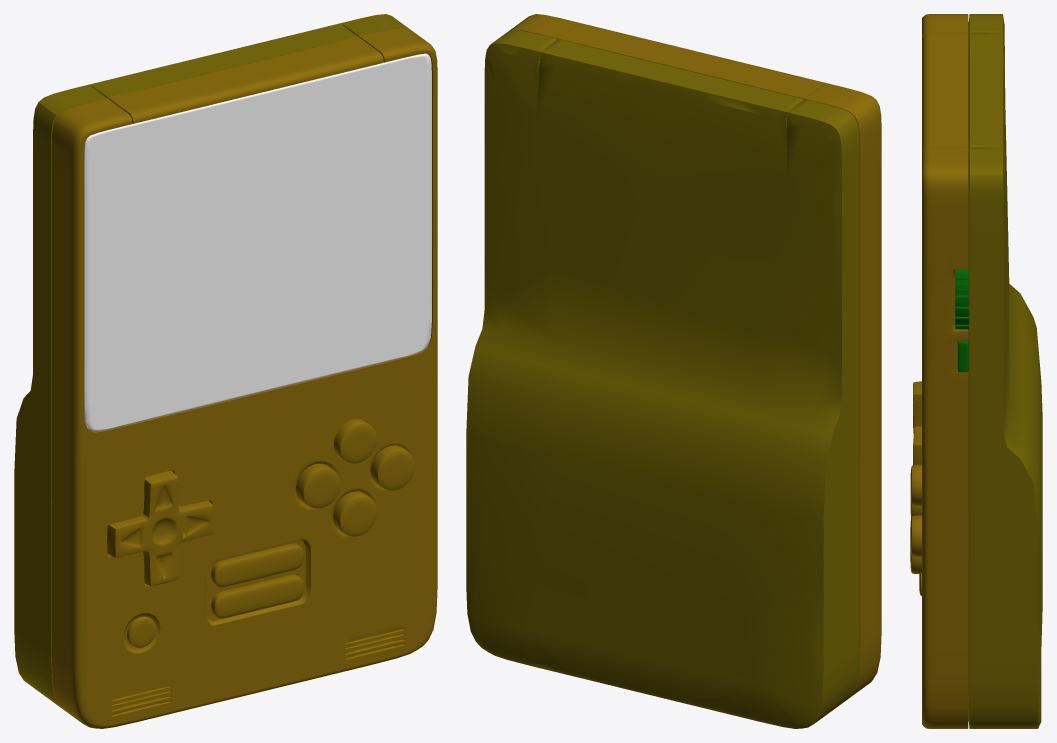
File: gameboy.fbx
The picture shows the model from 3 angles, left to right: view 1: azimuth 30°, elevation 25°; view 2: azimuth 150°, elevation 25°; view 3: azimuth 270°, elevation 25°; orthographic projection. The views are drawn at different scales.
Parts seen in each view (by area): view 1: Main Gameboy, D-Pad, Options Button, Start button, A Button, B Button, Y button, X Button, quit Button; view 2: Main Gameboy; view 3: Main Gameboy, D-Pad, A Button, X Button.
Part boxes in pixels (x1,y1,x2,y2): Main Gameboy: [14, 14, 437, 728]; D-Pad: [107, 471, 213, 585]; Options Button: [211, 574, 303, 618]; Start button: [211, 543, 303, 587]; A Button: [370, 445, 414, 490]; B Button: [333, 491, 377, 536]; Y button: [295, 463, 340, 508]; X Button: [333, 419, 376, 463]; quit Button: [127, 616, 156, 647]; Main Gameboy: [466, 14, 881, 728]; Main Gameboy: [922, 14, 1042, 728]; D-Pad: [913, 381, 921, 464]; A Button: [910, 515, 921, 556]; X Button: [910, 464, 921, 505].
Bounding box in the file's own units: 4.08 × 6.4 × 1.35.
